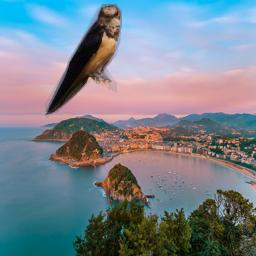Swallow: (45, 4, 122, 118)
